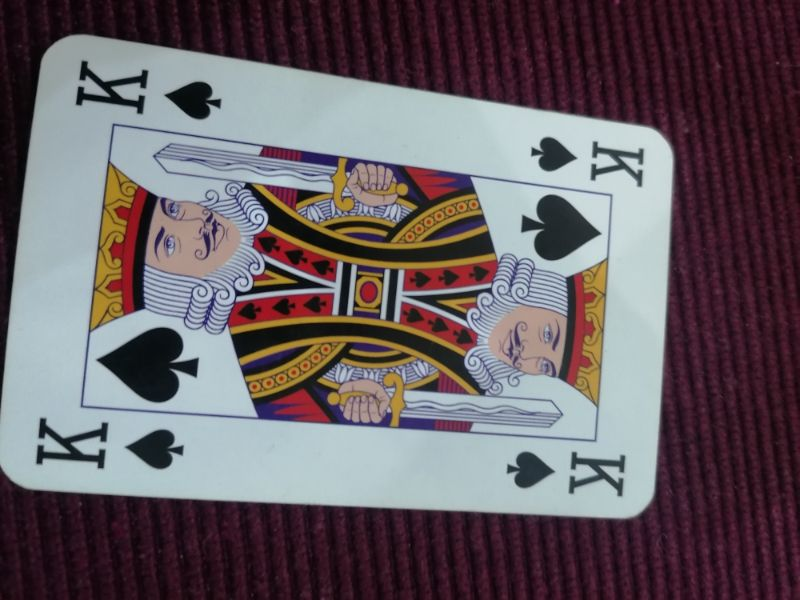Ks: (69, 53, 228, 127), (31, 413, 188, 477), (520, 128, 650, 194), (499, 445, 630, 501)
